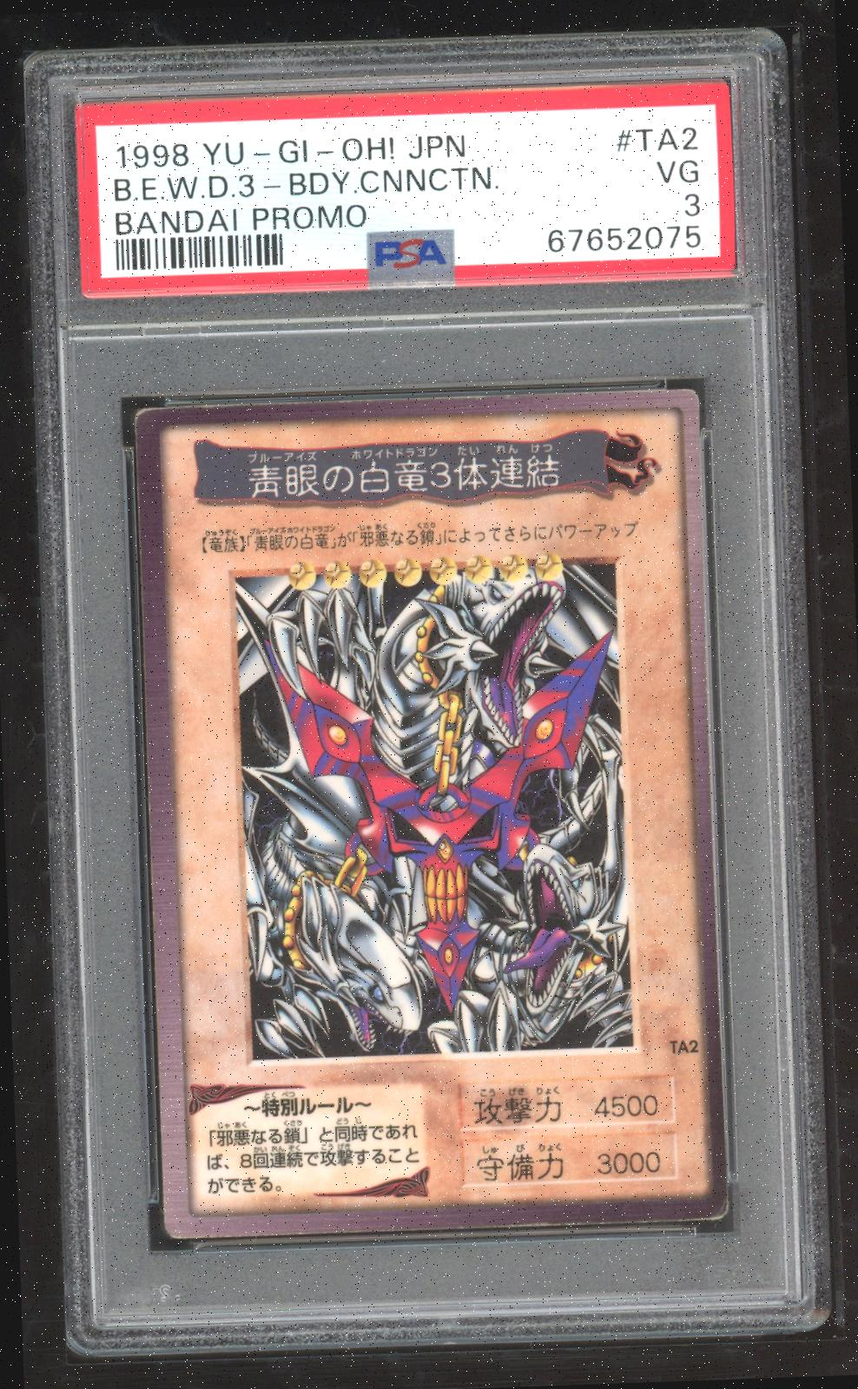card-2UtV: (134, 388, 728, 1239)
